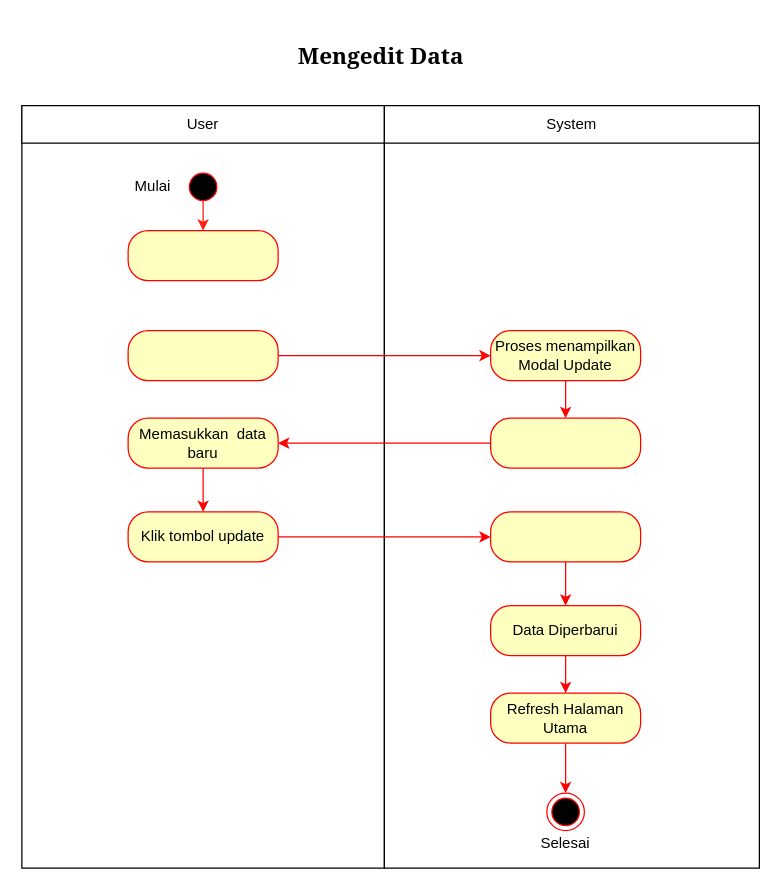
Some shapes in this 781 by 890 pixel diagram are drawn without their labels. The shapes that lost their labels are listed below. From the top down, each one's box as (x1, y1, x2, y2) in pixels, then its label:
(127, 229, 278, 281): Membuka halaman utama Website
(127, 329, 278, 381): Memilih Data Untuk diedit
(489, 417, 641, 468): Menampilkan Modal Update
(489, 511, 641, 562): Proses Memperbarui Data
